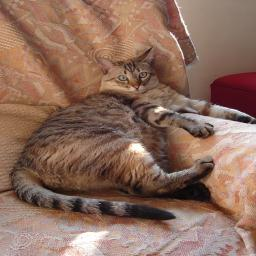catnose: (132, 84, 140, 90)
